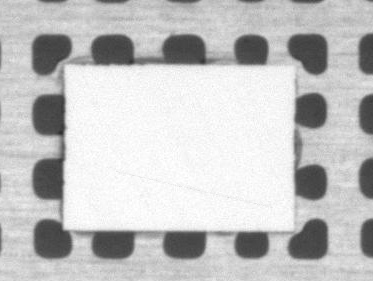DIE_CRACK: (154, 129, 361, 156)
